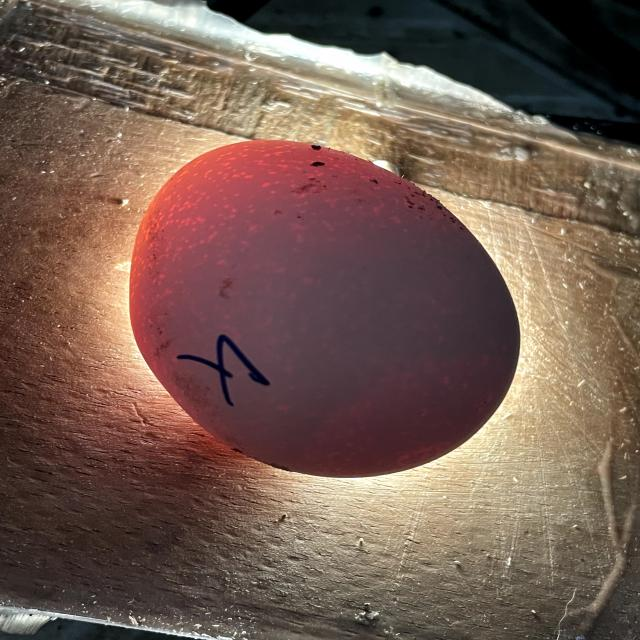fertile: (130, 140, 520, 476)
